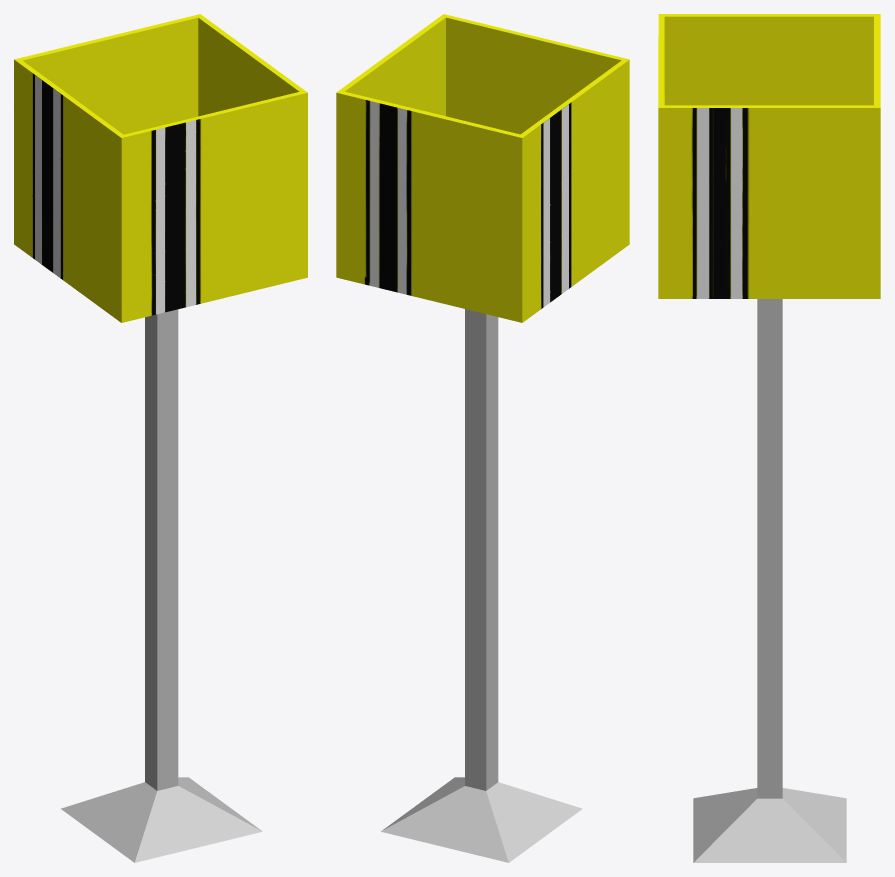
File: Lamp_style1.FBX
3 views of the same model, side by side, from view 1: azimuth 30°, elevation 25°; view 2: azimuth 150°, elevation 25°; view 3: azimuth 270°, elevation 25° (orthographic). The views are drawn at different scales.
Visible parts, largest first — view 1: Object001, Box001; view 2: Object001, Box001; view 3: Object001, Box001.
Boxes of the visible parts, box(x1,y1,x2,y2) form: Object001: box(14, 14, 307, 322); Box001: box(61, 309, 262, 862); Object001: box(336, 14, 629, 322); Box001: box(381, 309, 582, 862); Object001: box(658, 14, 880, 298); Box001: box(693, 299, 846, 862).
Size of the model in its own units: 35.25 by 135 by 35.24.
